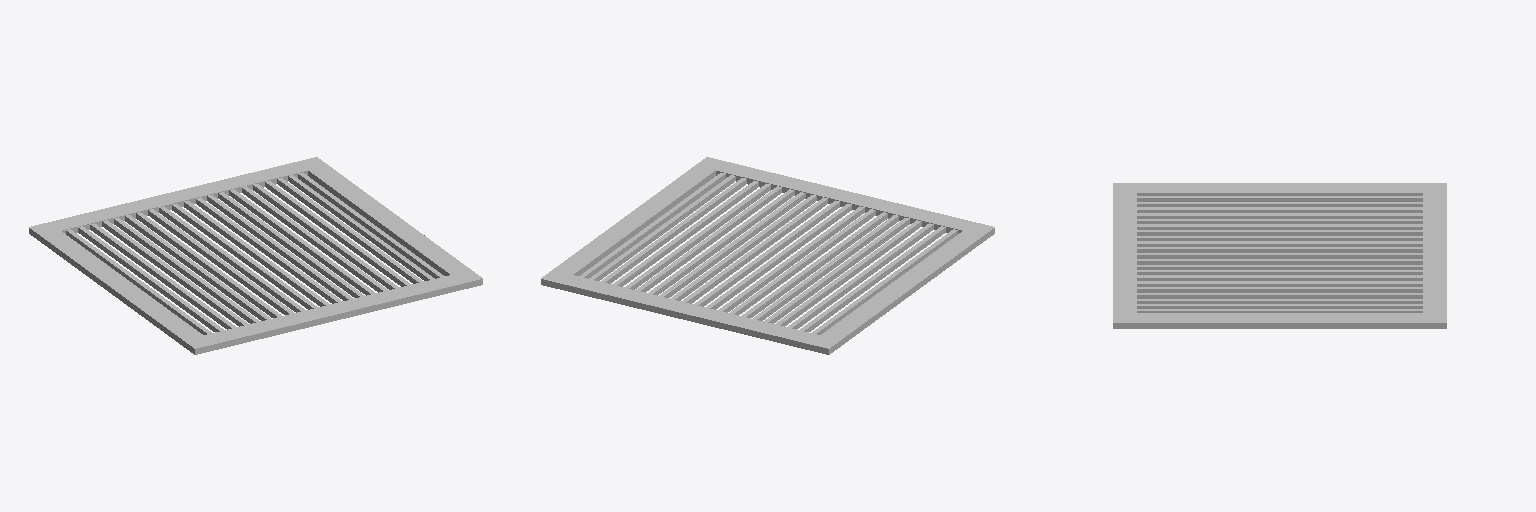
File: grate.obj
3 renders of one model, left to right at view 1: azimuth 30°, elevation 25°; view 2: azimuth 150°, elevation 25°; view 3: azimuth 270°, elevation 25°, orthographic.
Visible parts, largest first — view 1: SM_Grate_1_Cube.002; view 2: SM_Grate_1_Cube.002; view 3: SM_Grate_1_Cube.002.
Boxes of the visible parts, box(x1,y1,x2,y2) form: SM_Grate_1_Cube.002: box(29, 157, 482, 354); SM_Grate_1_Cube.002: box(541, 157, 994, 354); SM_Grate_1_Cube.002: box(1113, 183, 1446, 328).
Bounding box in the file's own units: 1 × 0.0205 × 1.